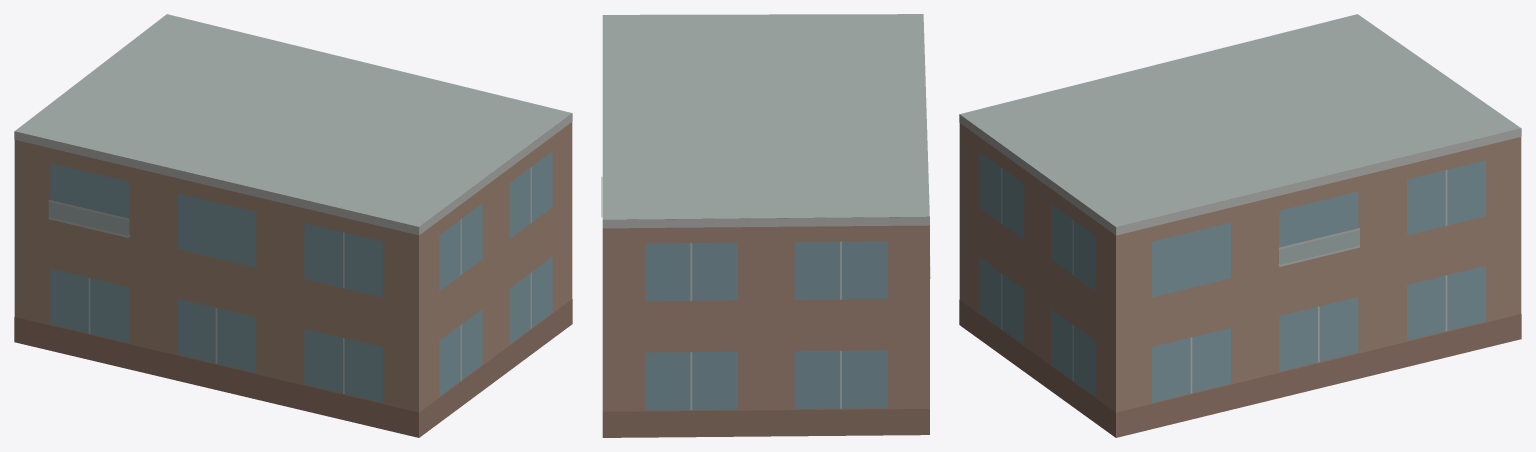
File: survey-upis-32530637.glb
3 views of the same model, side by side, from view 1: azimuth 30°, elevation 25°; view 2: azimuth 150°, elevation 25°; view 3: azimuth 270°, elevation 25° (orthographic). The views are drawn at different scales.
Parts seen in each view (by area): view 1: survey-upis-32530637.tmp; view 2: survey-upis-32530637.tmp; view 3: survey-upis-32530637.tmp.
Boxes of the visible parts, x1,y1,x2,y2 form: survey-upis-32530637.tmp: [14, 14, 572, 437]; survey-upis-32530637.tmp: [601, 14, 930, 437]; survey-upis-32530637.tmp: [959, 14, 1521, 437].
Size of the model in its own units: 13.24 by 6.1 by 14.75.
